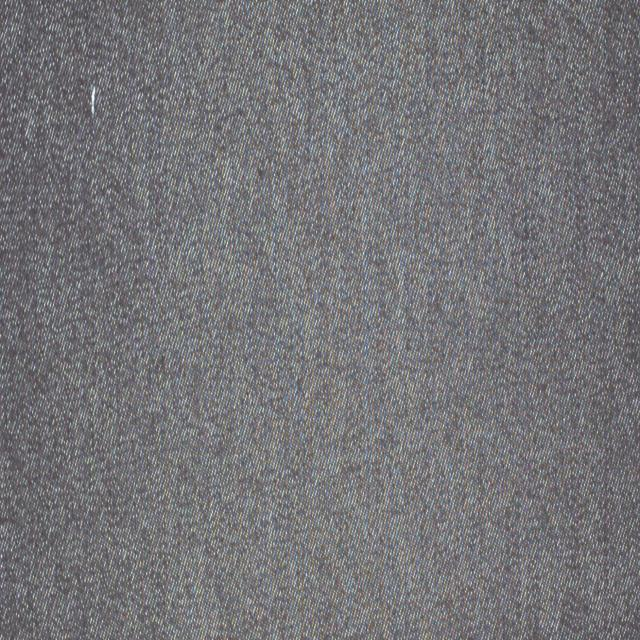Knot: (90, 86, 96, 116)
